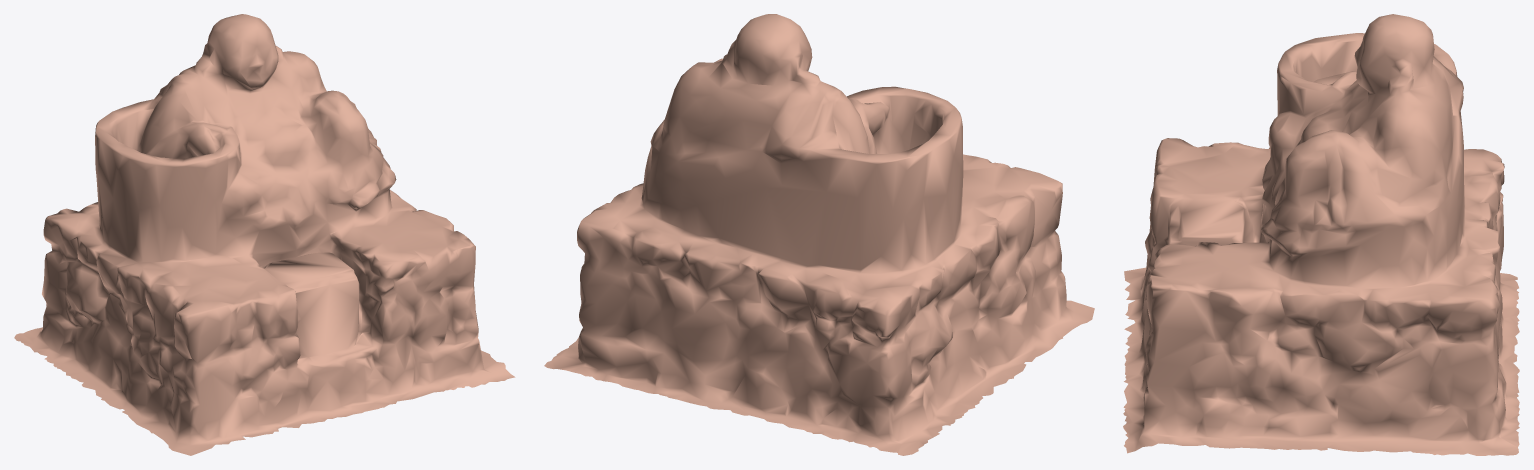
The model's file is wc-hotei-water-basin.lod1.glb.
3 renders of one model, left to right at view 1: azimuth 30°, elevation 25°; view 2: azimuth 150°, elevation 25°; view 3: azimuth 270°, elevation 25°, orthographic. The views are drawn at different scales.
Visible parts, largest first — view 1: wc-hotei-water-basin; view 2: wc-hotei-water-basin; view 3: wc-hotei-water-basin.
Part boxes in pixels (x1,y1,x2,y2): wc-hotei-water-basin: [14, 14, 515, 455]; wc-hotei-water-basin: [544, 14, 1094, 455]; wc-hotei-water-basin: [1123, 14, 1519, 455].
Size of the model in its own units: 1.12 by 0.9983 by 1.01.
